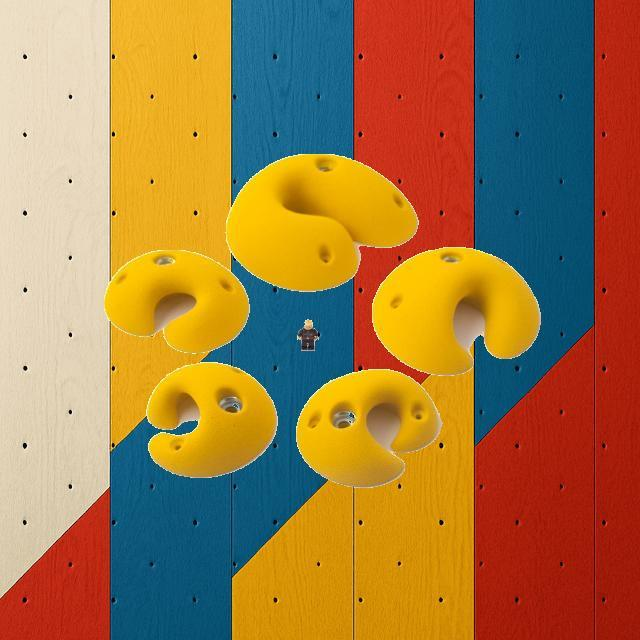Pocket: (225, 153, 419, 291), (371, 247, 541, 375), (296, 369, 442, 487), (146, 362, 276, 478), (104, 249, 248, 353)
